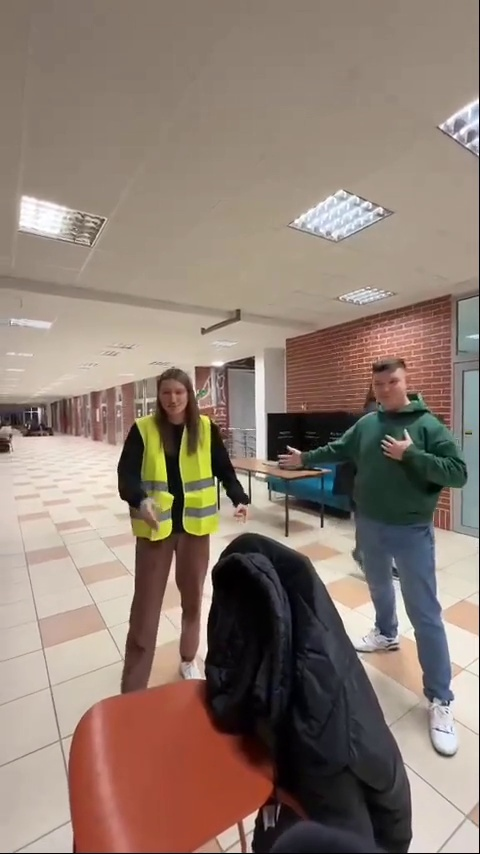no vest: (305, 356, 475, 749)
vest: (111, 373, 245, 669)
